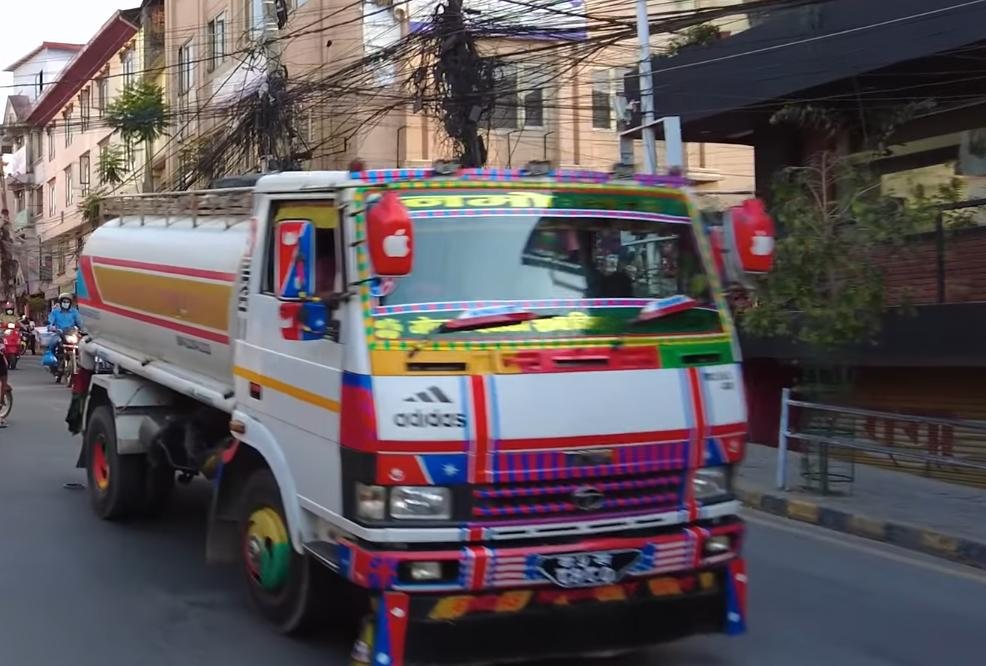bike: (39, 299, 89, 390)
mini_truck: (58, 145, 768, 666)
